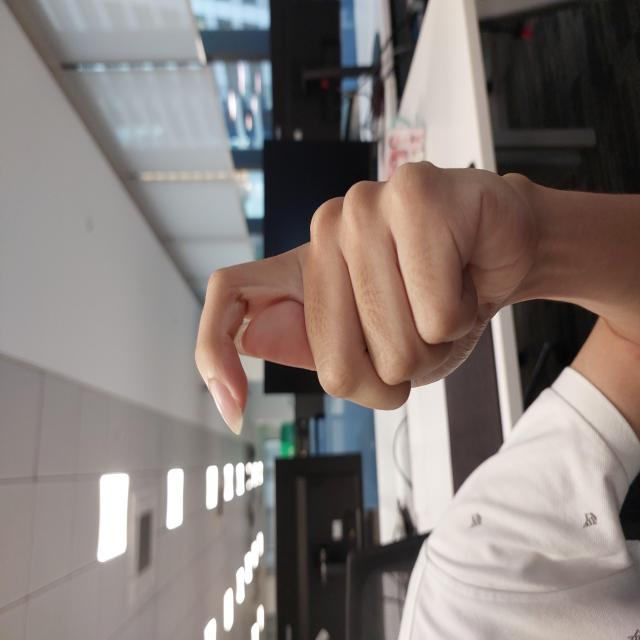T: (203, 192, 484, 544)
